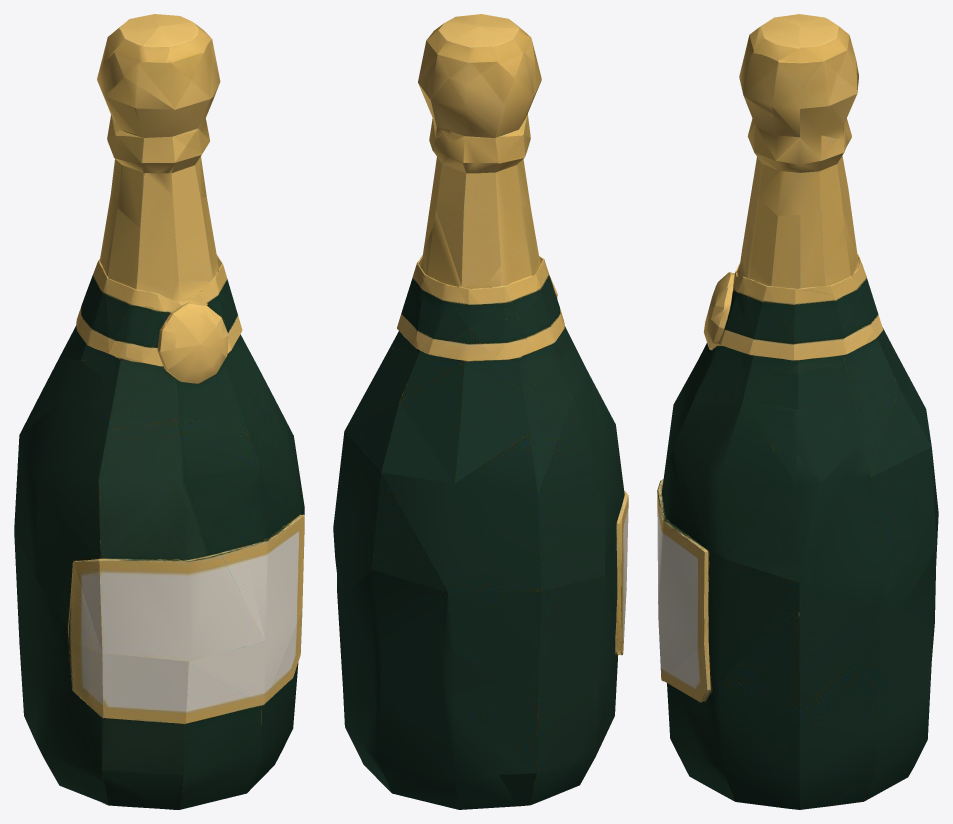
File: bottle.glb
3 renders of one model, left to right at view 1: azimuth 30°, elevation 25°; view 2: azimuth 150°, elevation 25°; view 3: azimuth 270°, elevation 25°, orthographic.
Parts seen in each view (by area): view 1: Mesh_0; view 2: Mesh_0; view 3: Mesh_0.
Boxes of the visible parts, x1,y1,x2,y2 form: Mesh_0: [14, 14, 304, 809]; Mesh_0: [333, 14, 628, 809]; Mesh_0: [657, 14, 938, 809].
Bounding box in the file's own units: 0.7148 × 2 × 0.694.
1 material, 1 textured.
